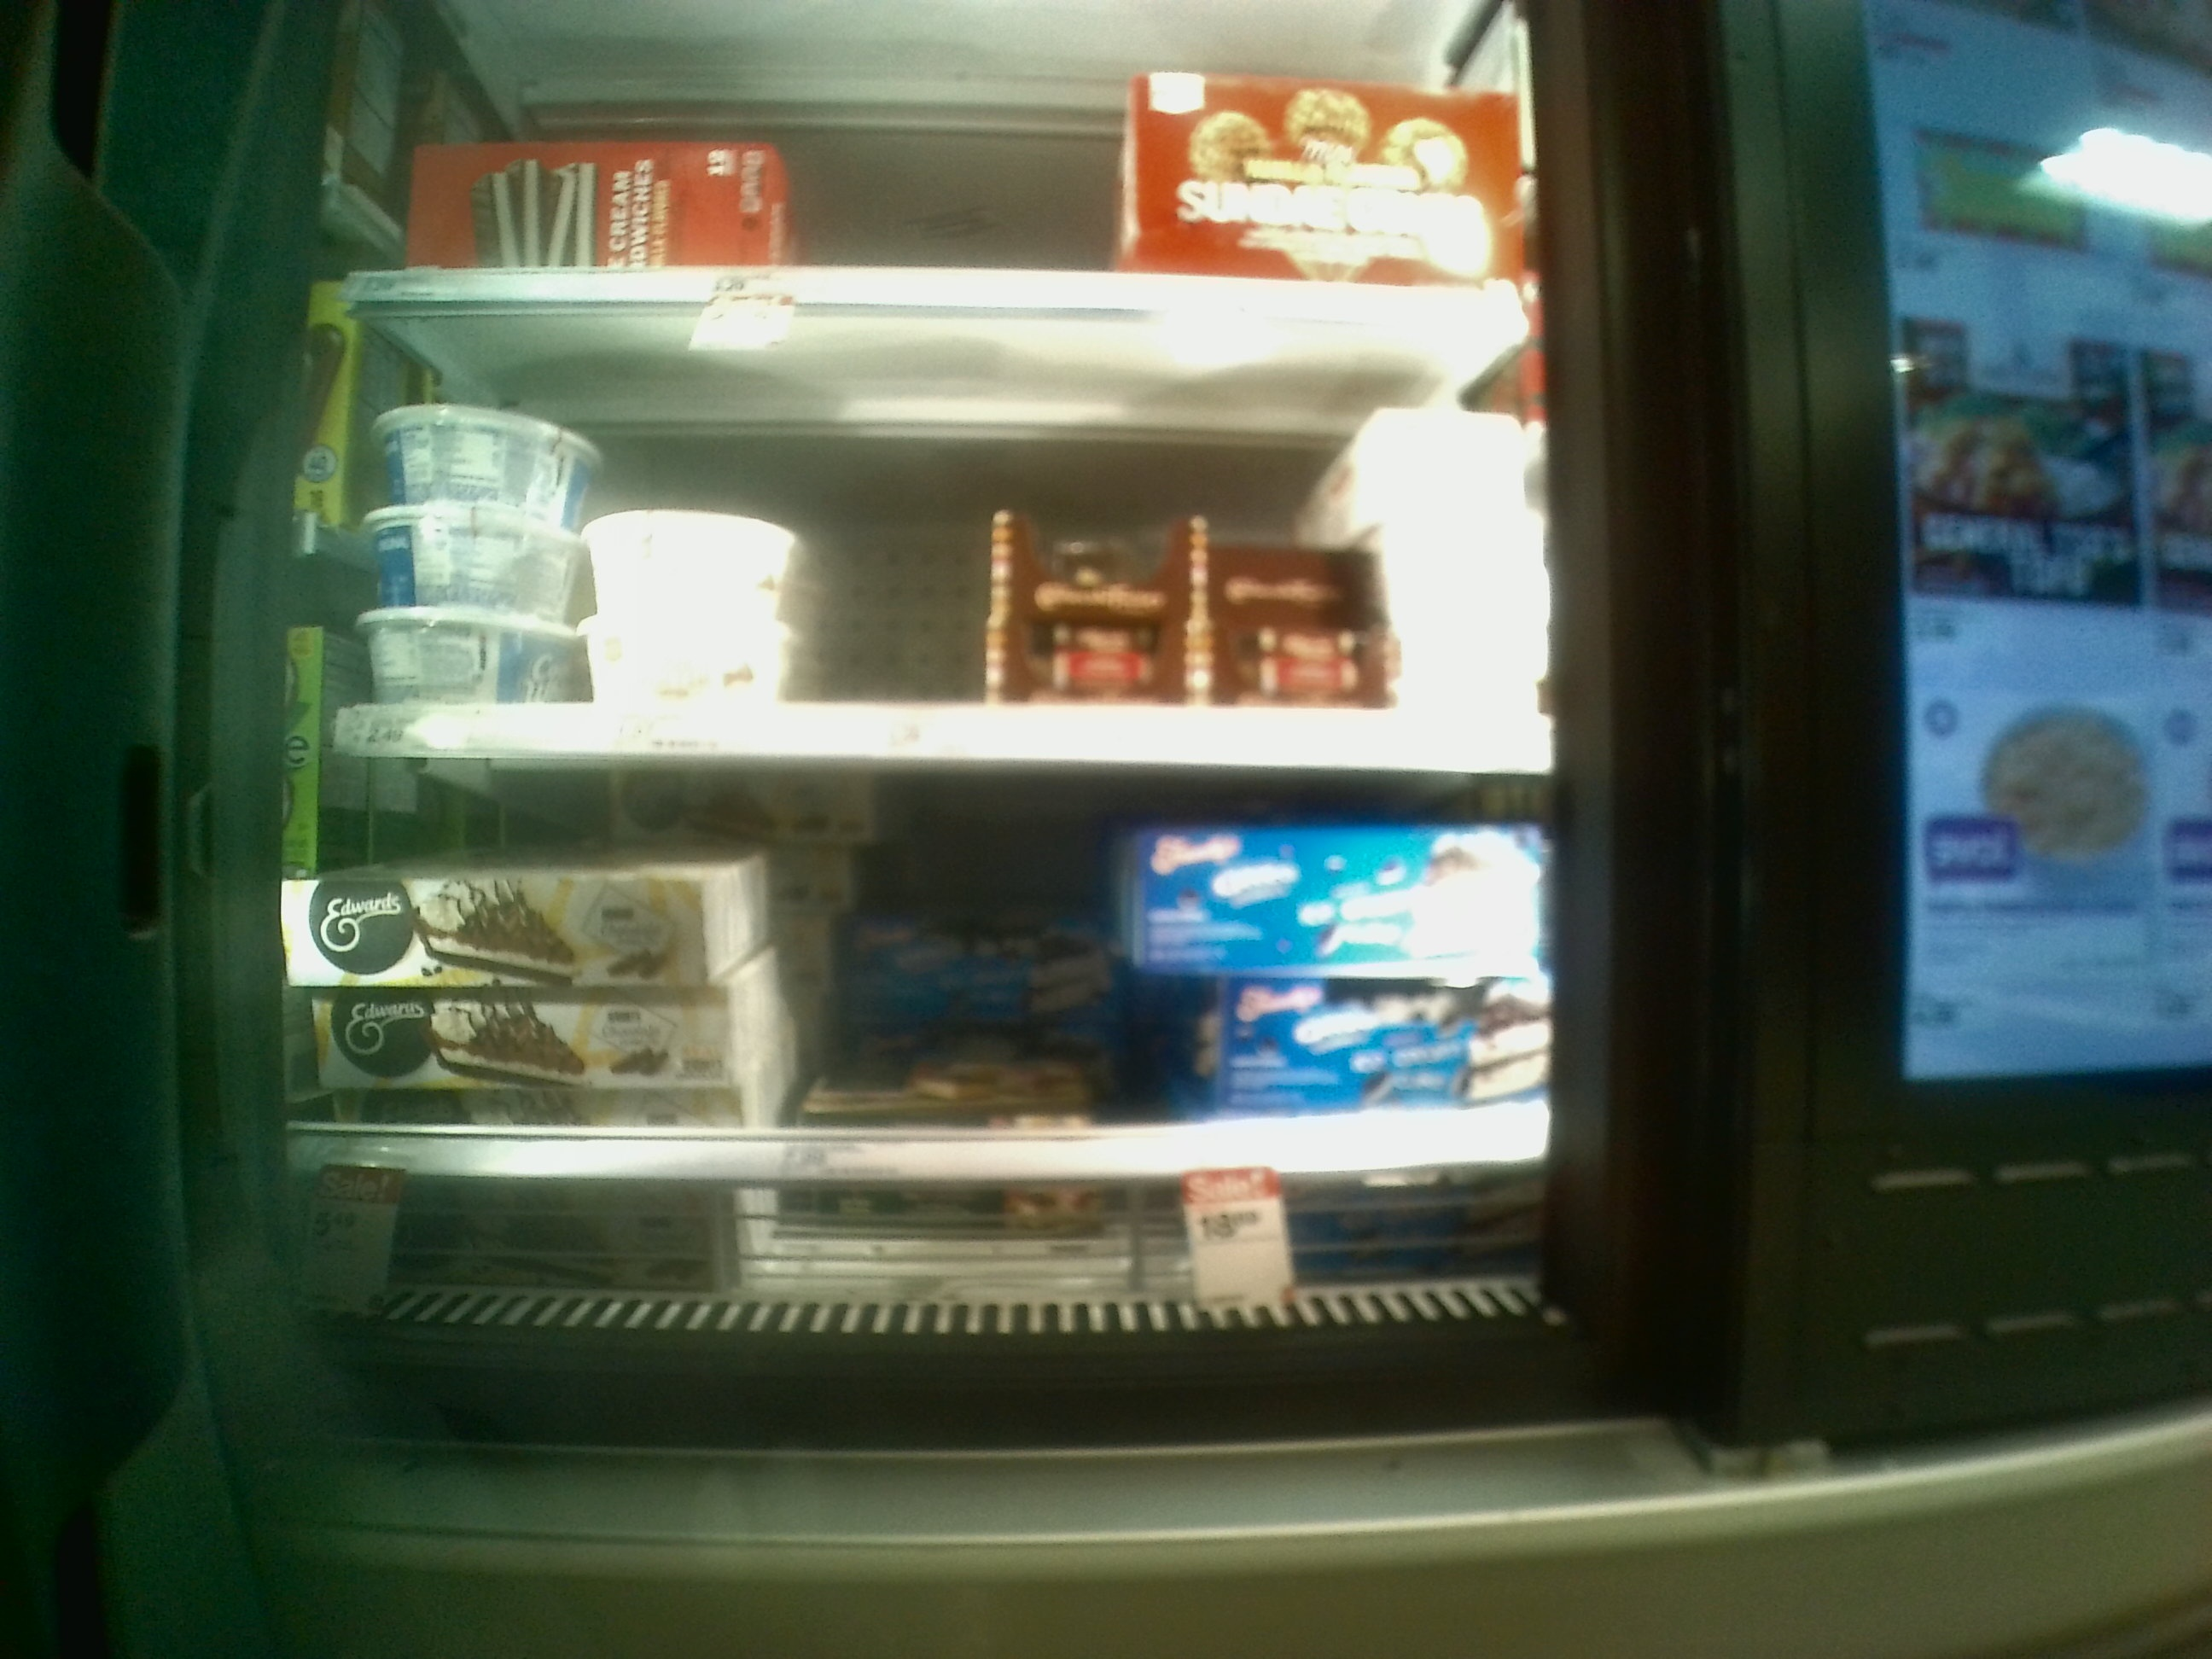frozen-food-shelf: (320, 328, 1561, 772), (263, 774, 1576, 1180)
